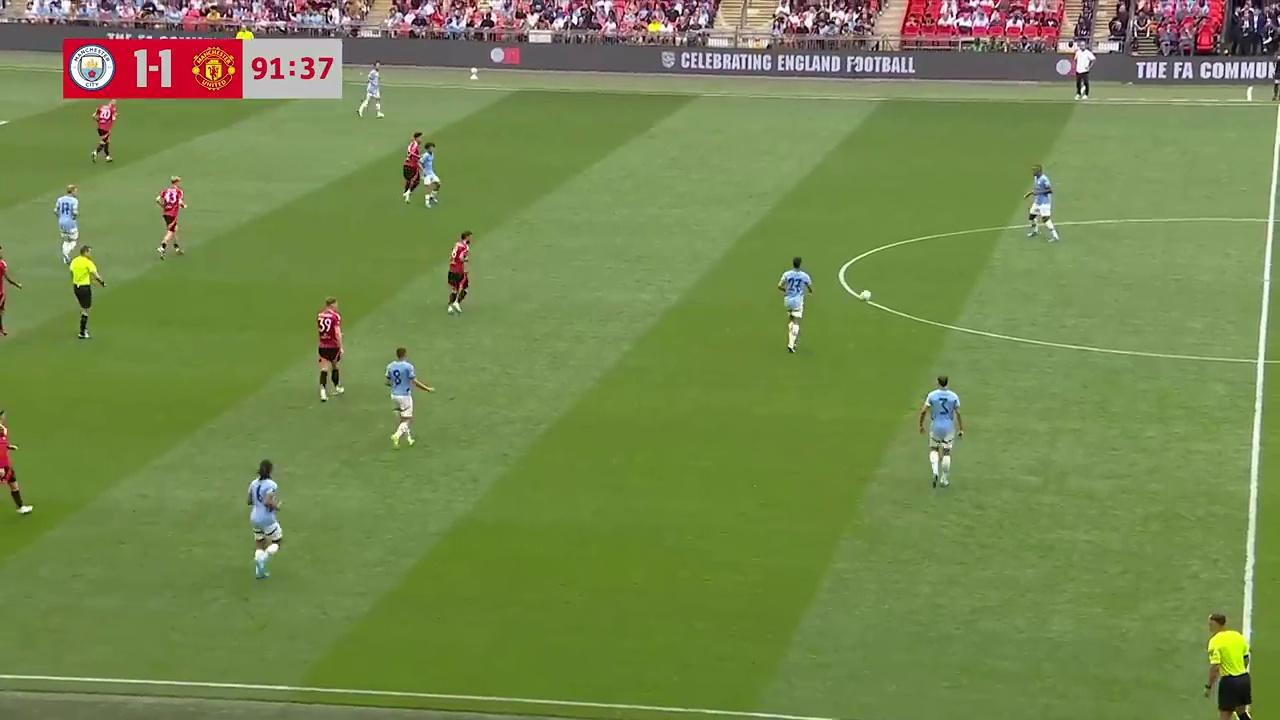ball: (859, 287, 872, 301)
player: (918, 375, 963, 490), (384, 346, 434, 448), (247, 460, 283, 578), (776, 256, 813, 353), (0, 409, 32, 515), (316, 296, 344, 402), (155, 175, 187, 258), (1025, 172, 1059, 241), (0, 247, 23, 338), (447, 230, 471, 315), (53, 183, 79, 261), (404, 136, 431, 204), (90, 99, 117, 163), (402, 133, 424, 203), (357, 63, 384, 118), (419, 141, 441, 208)
referee: (1202, 610, 1250, 717), (66, 242, 104, 340)
